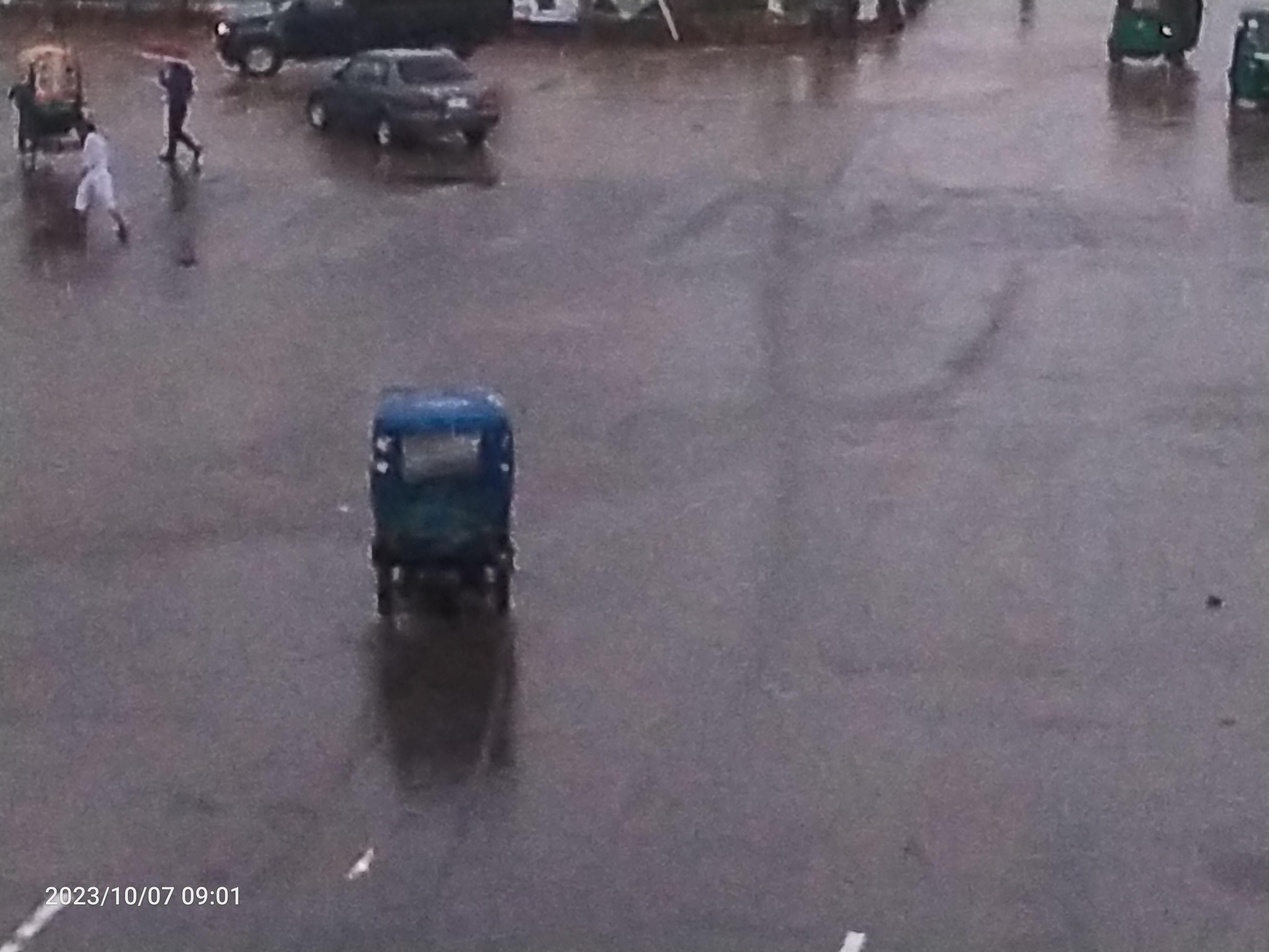Car: (314, 341, 568, 650), (279, 47, 520, 193), (189, 0, 551, 75), (4, 33, 127, 176)
